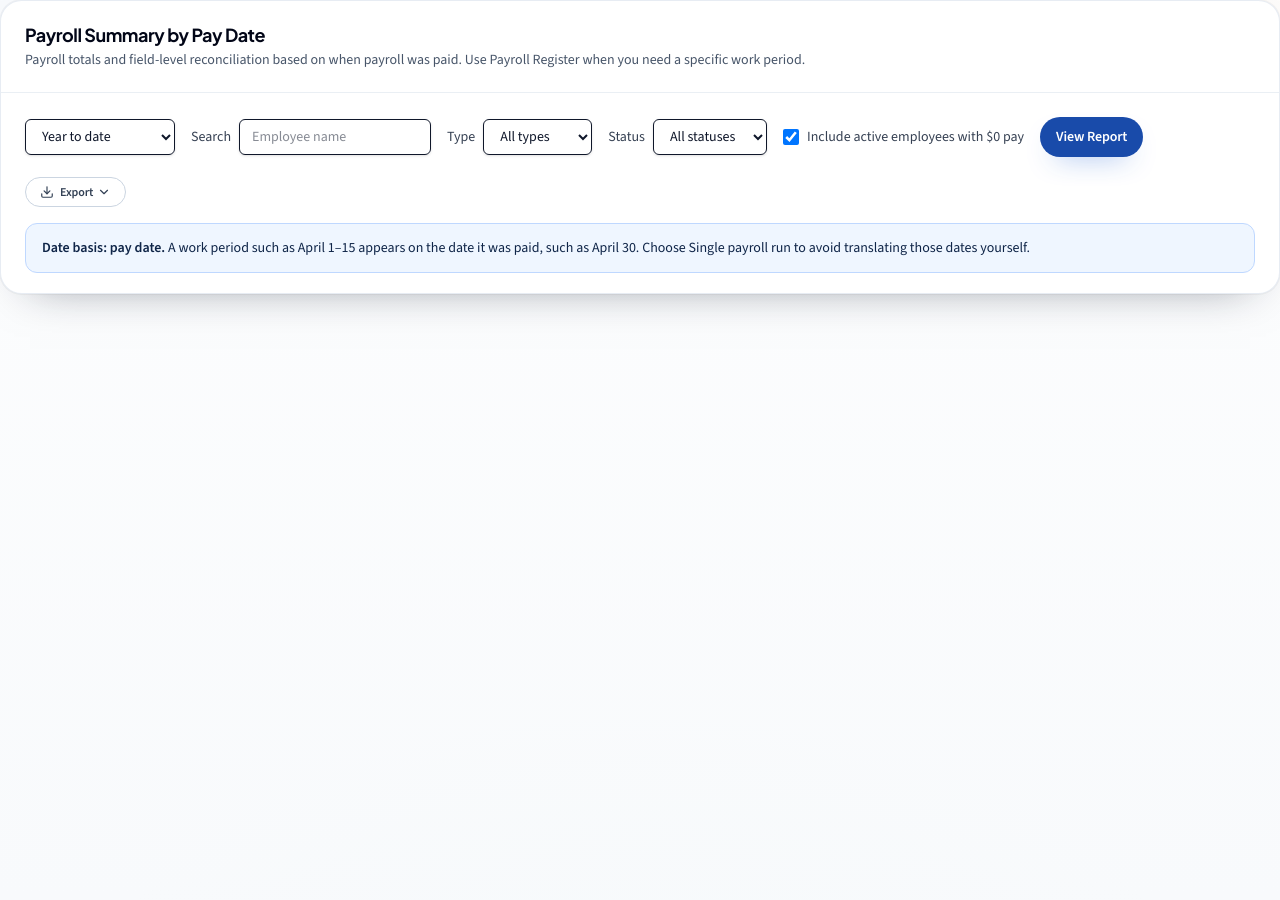
YtdSummaryPanel › shows an actionable empty state instead of a zero-dollar employee grid
Click the button "View Report" at (1092, 137), box [1040,117,1143,157]
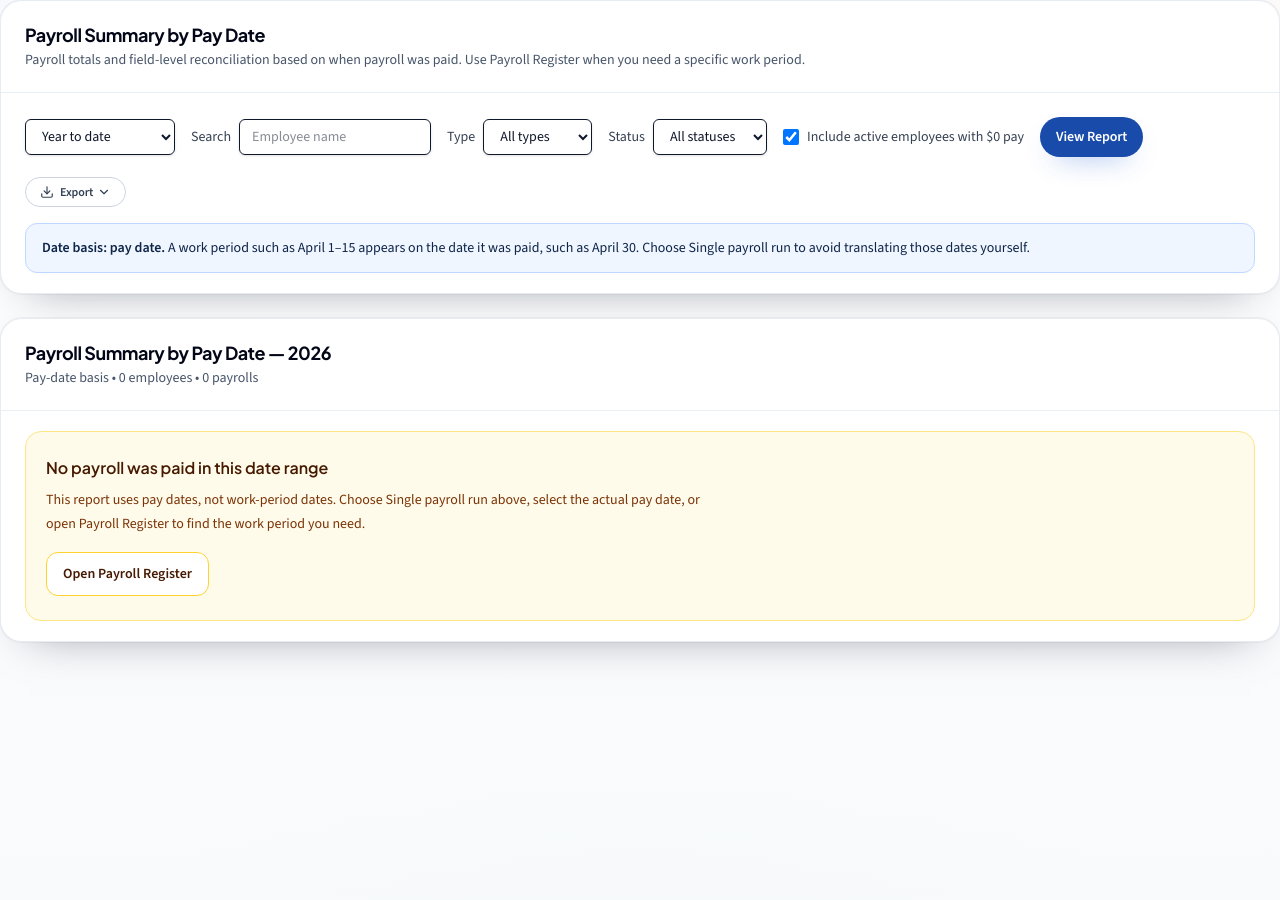
Now the heading "No payroll was paid in this date range" is shown, box [46,456,328,478]
